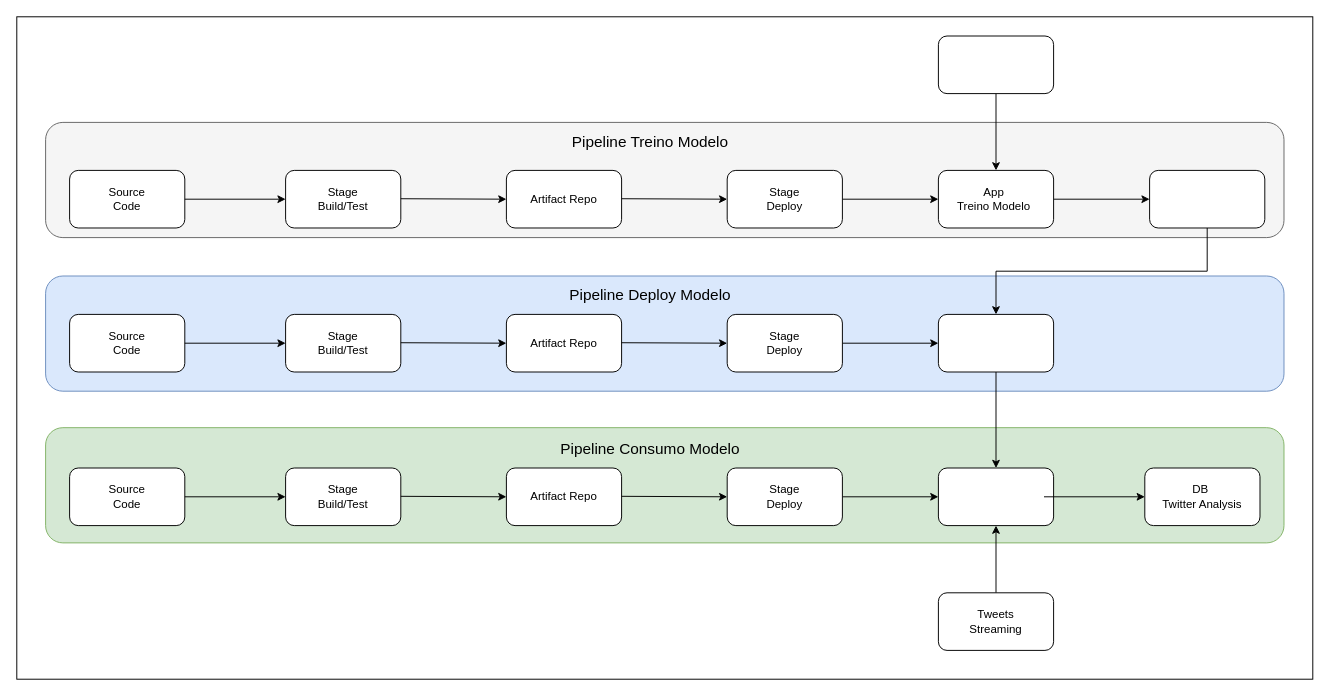
Some shapes in this 1330 by 696 pixel diagram are drawn without their labels. The shapes that lost their labels are listed below. From the top down, each one's box as (x1, y1, x2, y2) in pixels, then its label:
(937, 35, 1054, 94): Dataset Train Repo
(1149, 169, 1265, 228): Model Train Repo
(937, 313, 1054, 372): App Servir Modelo
(937, 467, 1054, 526): App Consumo Modelo
